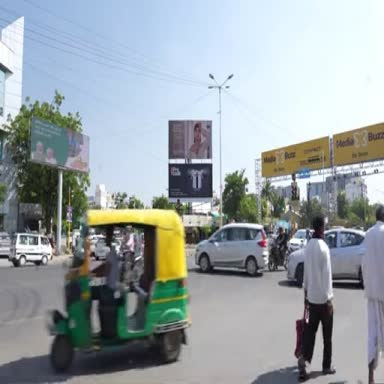Car: (195, 224, 268, 274), (324, 229, 364, 286), (9, 233, 52, 266), (288, 230, 306, 253), (94, 237, 110, 260), (0, 232, 11, 258)
